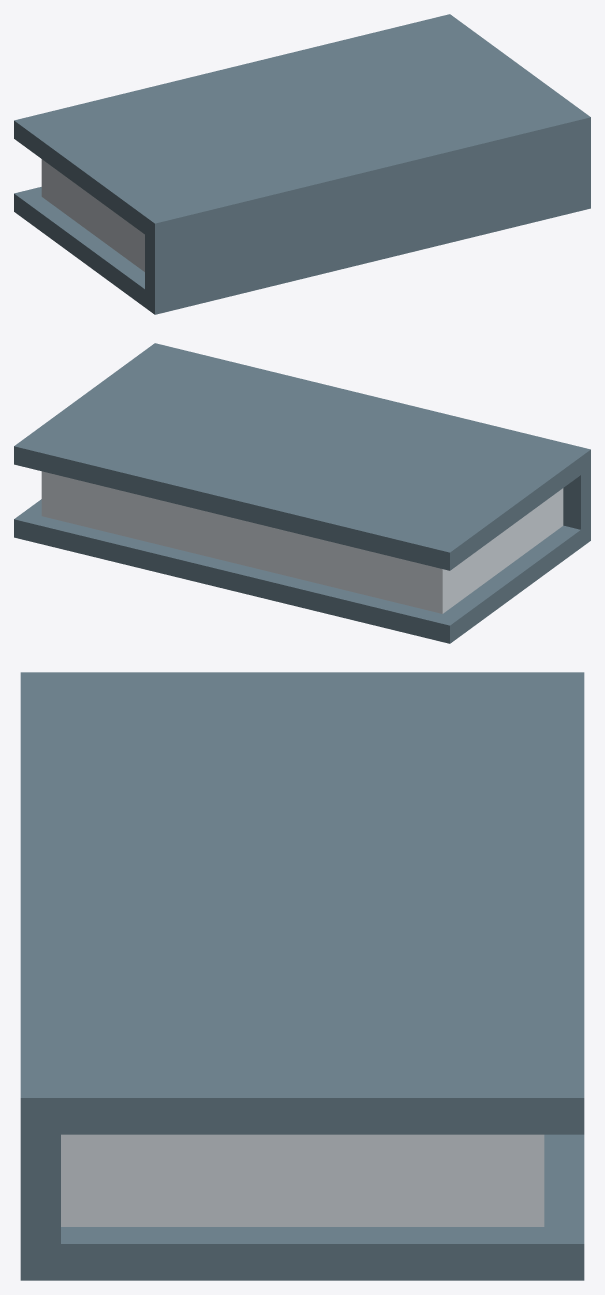
File: book-01.fbx
The picture shows the model from 3 angles, top to bottom: view 1: azimuth 30°, elevation 25°; view 2: azimuth 150°, elevation 25°; view 3: azimuth 270°, elevation 25°; orthographic projection. The views are drawn at different scales.
Visible parts, largest first — view 1: book-01; view 2: book-01; view 3: book-01.
Part boxes in pixels (box(x1,y1,x2,y2)): book-01: box(14, 14, 590, 314); book-01: box(14, 343, 590, 643); book-01: box(20, 672, 584, 1280).
Size of the model in its own units: 25 by 5 by 14.
